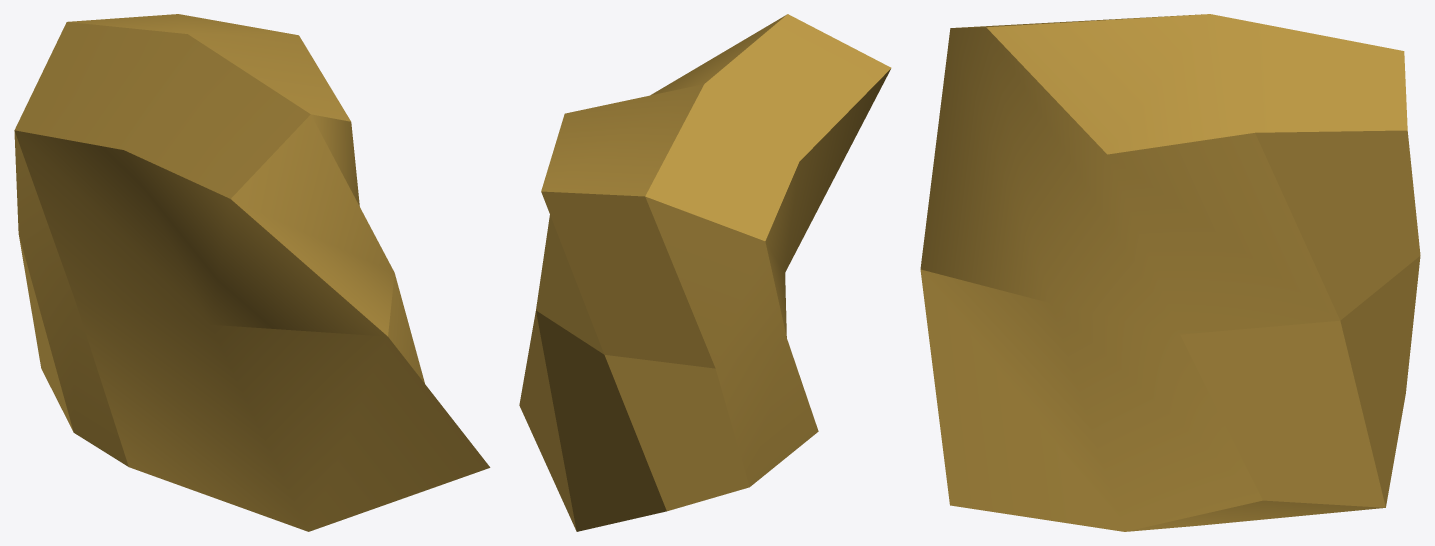
The model's file is rock6.fbx.
The picture shows the model from 3 angles, left to right: view 1: azimuth 30°, elevation 25°; view 2: azimuth 150°, elevation 25°; view 3: azimuth 270°, elevation 25°; orthographic projection. The views are drawn at different scales.
Visible parts, largest first — view 1: rock6; view 2: rock6; view 3: rock6.
Part boxes in pixels (x1,y1,x2,y2): rock6: (14,14,490,531); rock6: (519,14,891,531); rock6: (920,14,1420,531).
Size of the model in its own units: 1.71 by 2.33 by 2.19.
